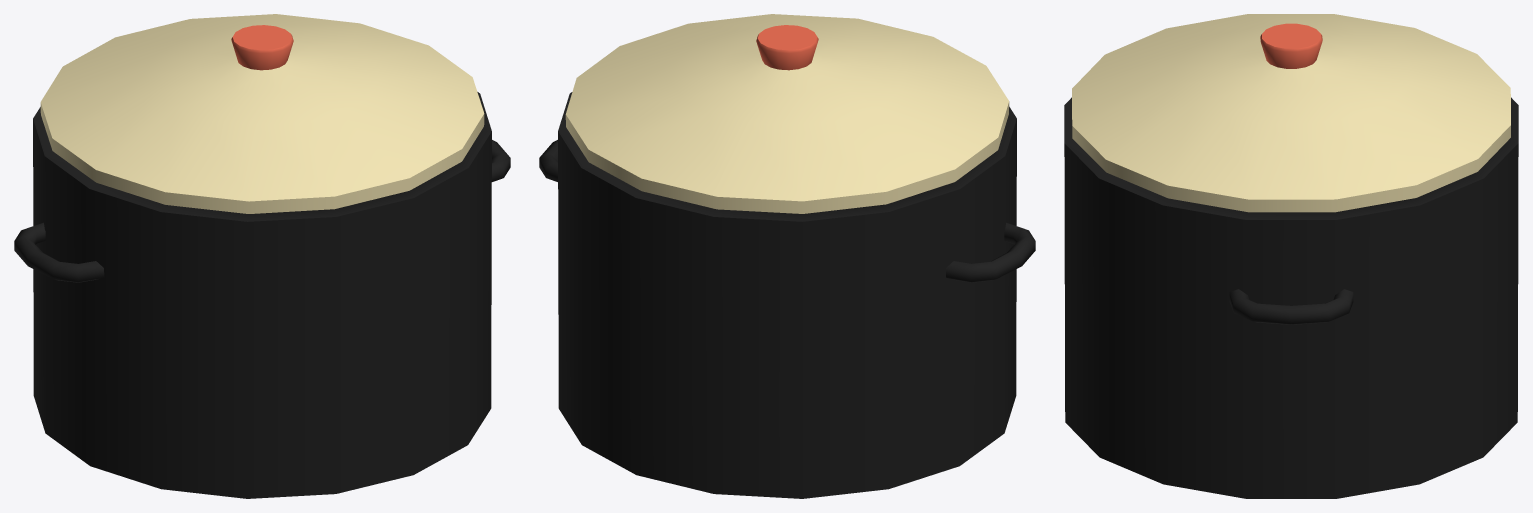
Rendered from LP_pot1.fbx.
The picture shows the model from 3 angles, left to right: view 1: azimuth 30°, elevation 25°; view 2: azimuth 150°, elevation 25°; view 3: azimuth 270°, elevation 25°; orthographic projection.
Parts seen in each view (by area): view 1: LP_pot1.001, LP_pot1_lid.001; view 2: LP_pot1.001, LP_pot1_lid.001; view 3: LP_pot1.001, LP_pot1_lid.001.
Boxes of the visible parts, left/top/right/bottom form: LP_pot1.001: left=14, top=92, right=510, bottom=498; LP_pot1_lid.001: left=40, top=14, right=484, bottom=213; LP_pot1.001: left=539, top=92, right=1035, bottom=498; LP_pot1_lid.001: left=565, top=14, right=1009, bottom=213; LP_pot1.001: left=1064, top=97, right=1518, bottom=498; LP_pot1_lid.001: left=1072, top=14, right=1510, bottom=212.
Size of the model in its own units: 43.73 by 32.47 by 36.4.
